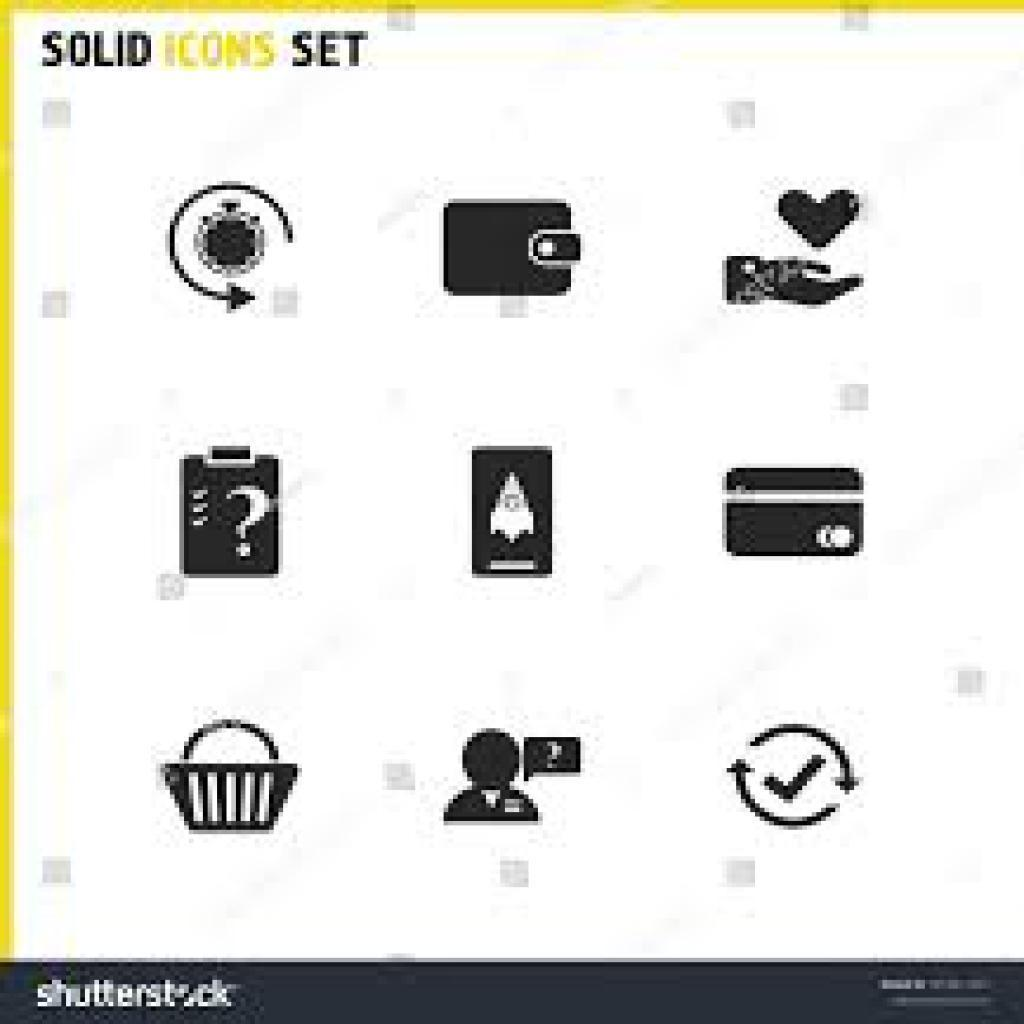icon: (713, 184, 875, 321), (158, 175, 309, 316), (152, 717, 313, 848), (436, 721, 594, 844), (438, 190, 588, 316), (172, 440, 295, 593), (719, 717, 868, 841), (715, 460, 876, 572), (459, 439, 573, 589)
